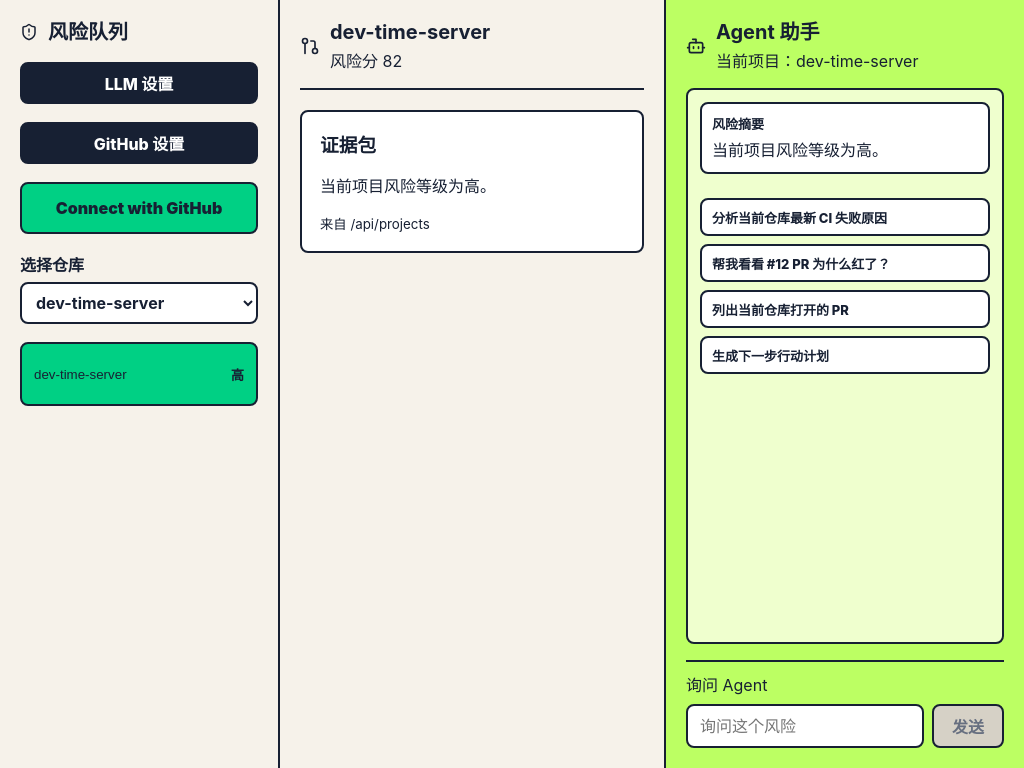
Test case: Dev Time risk workspace › 展示 Agent 澄清意图
Expected: the text "当前项目：dev-time-server" is shown, top-left (716, 48), bottom-right (918, 72)
Type "你怎么看" into the field labelled "询问 Agent" at (805, 726), box top-left (686, 704), bottom-right (924, 748)
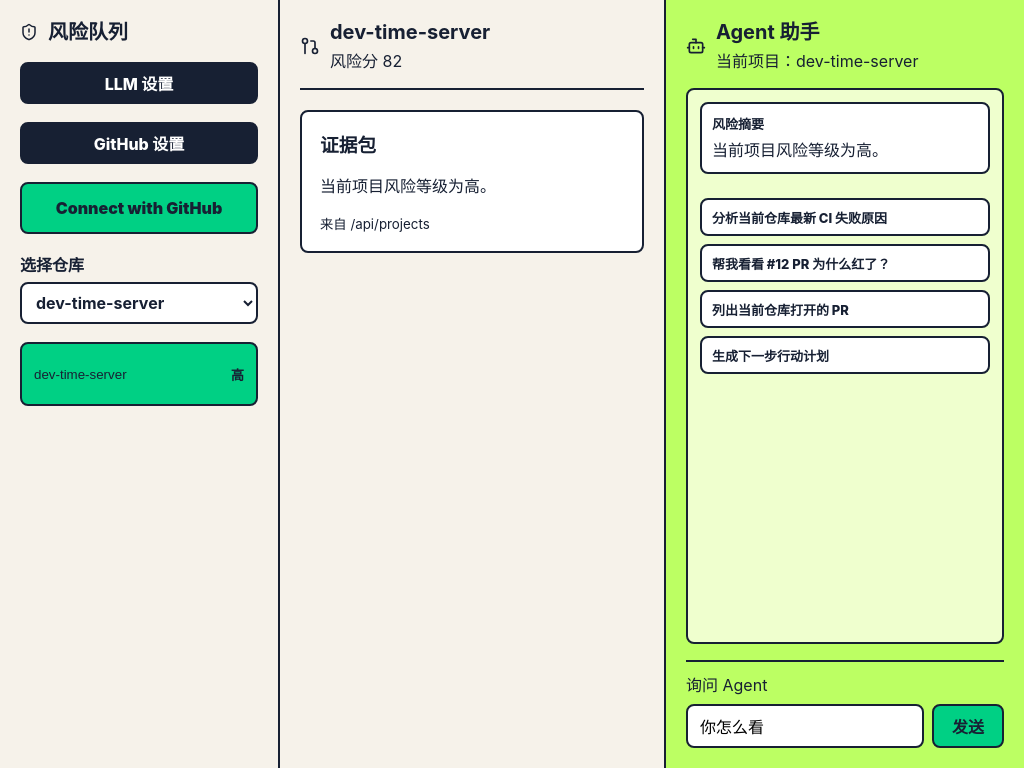
Click the button "发送" at (968, 726), box top-left (932, 704), bottom-right (1004, 748)
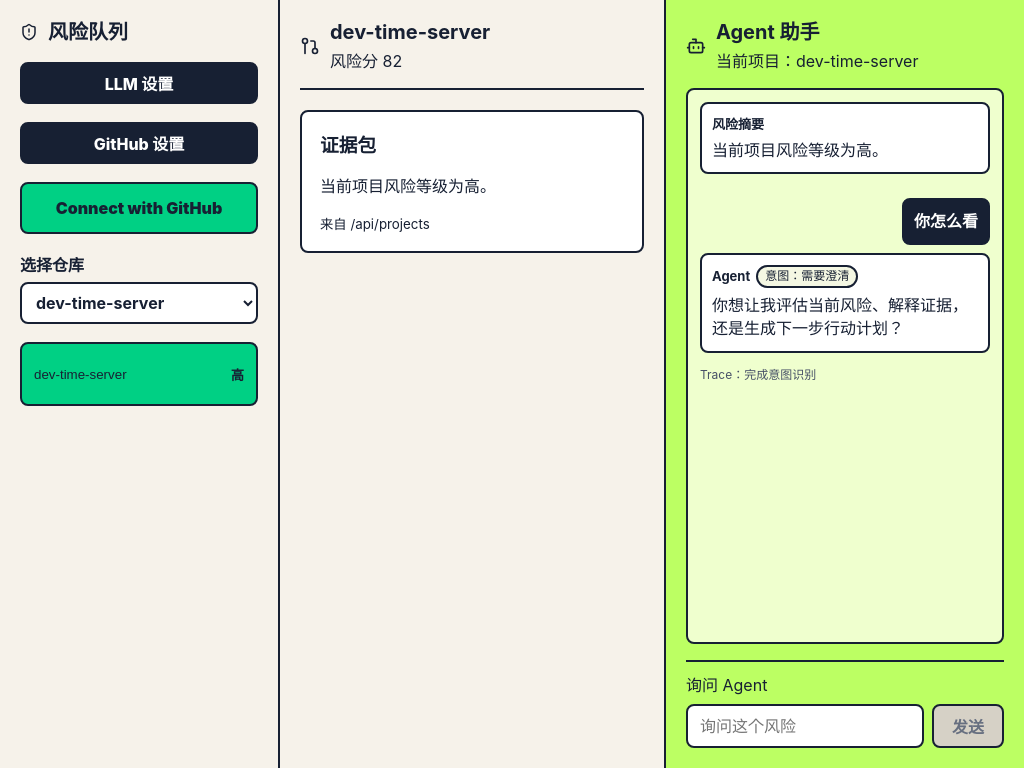
Expected: the text "意图：需要澄清" is shown, top-left (756, 265), bottom-right (858, 288)
Expected: the text "你想让我评估当前风险、解释证据，还是生成下一步行动计划？" is shown, top-left (712, 294), bottom-right (978, 341)
